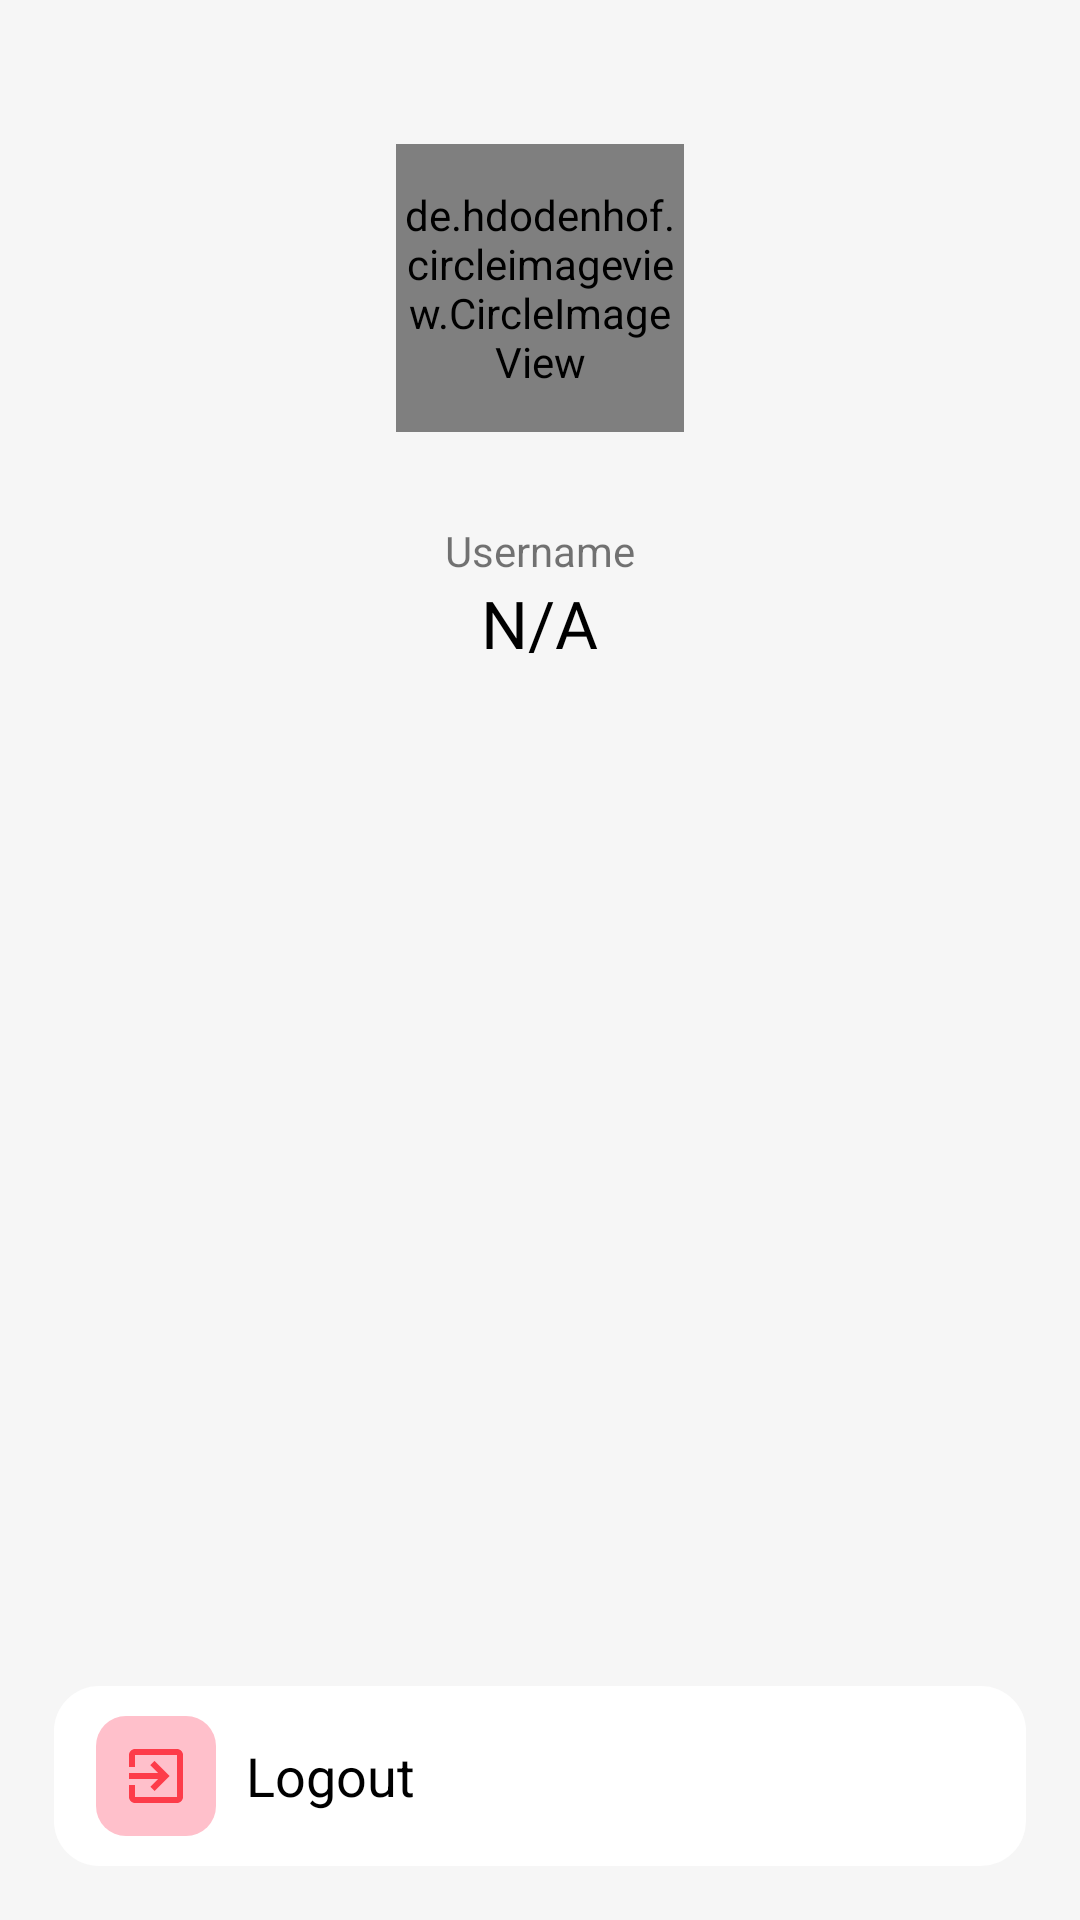

Point at icon controls on the screen. Image size 1080w x 1920h, points as [x,y].
exit to app: [156,1776]
